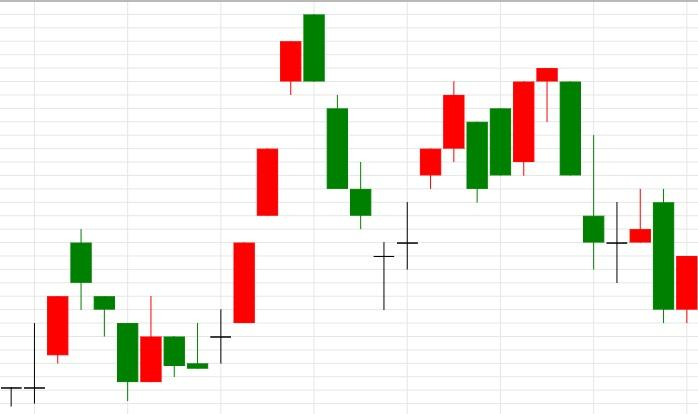hanging_man_fall: (373, 67, 559, 310)
three_black_crows_fall: (186, 14, 372, 370), (0, 229, 139, 407)
